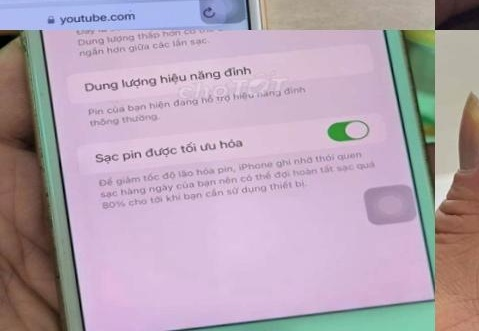scratch: (34, 128, 62, 249), (9, 30, 34, 64), (411, 302, 435, 329), (239, 326, 276, 331)
